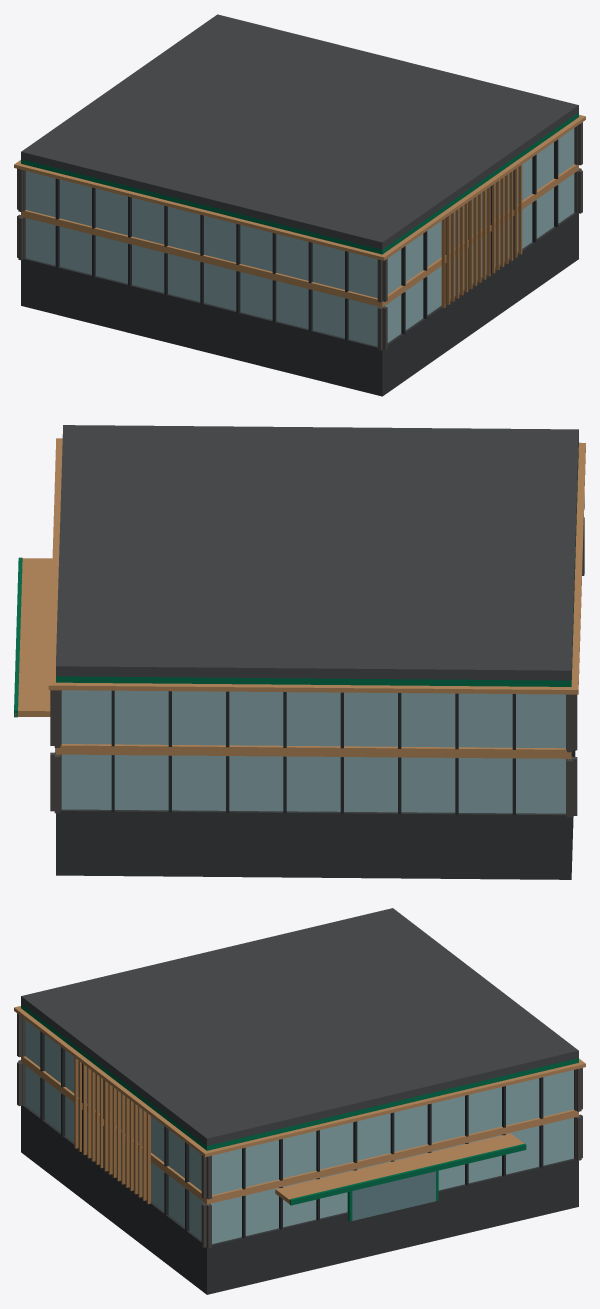
The model's file is starbucks-zhongqing.glb.
The picture shows the model from 3 angles, top to bottom: view 1: azimuth 30°, elevation 25°; view 2: azimuth 150°, elevation 25°; view 3: azimuth 270°, elevation 25°; orthographic projection. The views are drawn at different scales.
Visible parts, largest first — view 1: starbucks-zhongqing; view 2: starbucks-zhongqing; view 3: starbucks-zhongqing.
Boxes of the visible parts, x1,y1,x2,y2 form: starbucks-zhongqing: (14,14,585,396); starbucks-zhongqing: (14,425,585,879); starbucks-zhongqing: (14,908,585,1294).
Size of the model in its own units: 37.36 by 11.5 by 38.15.
